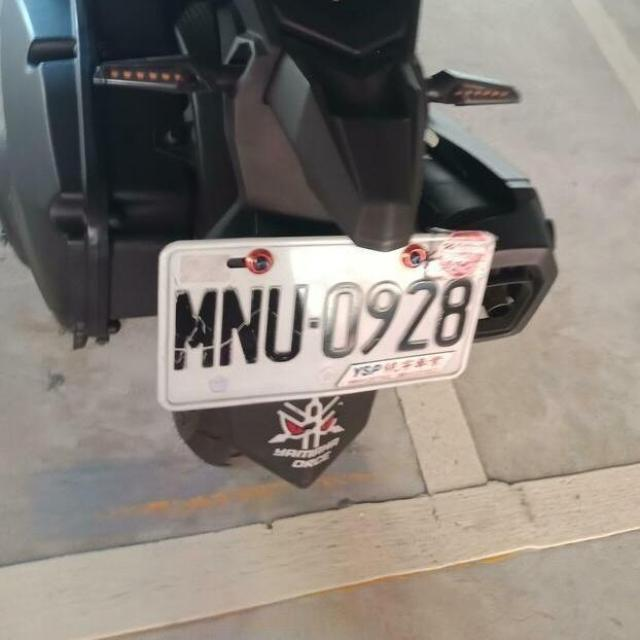W: (143, 217, 500, 425)
